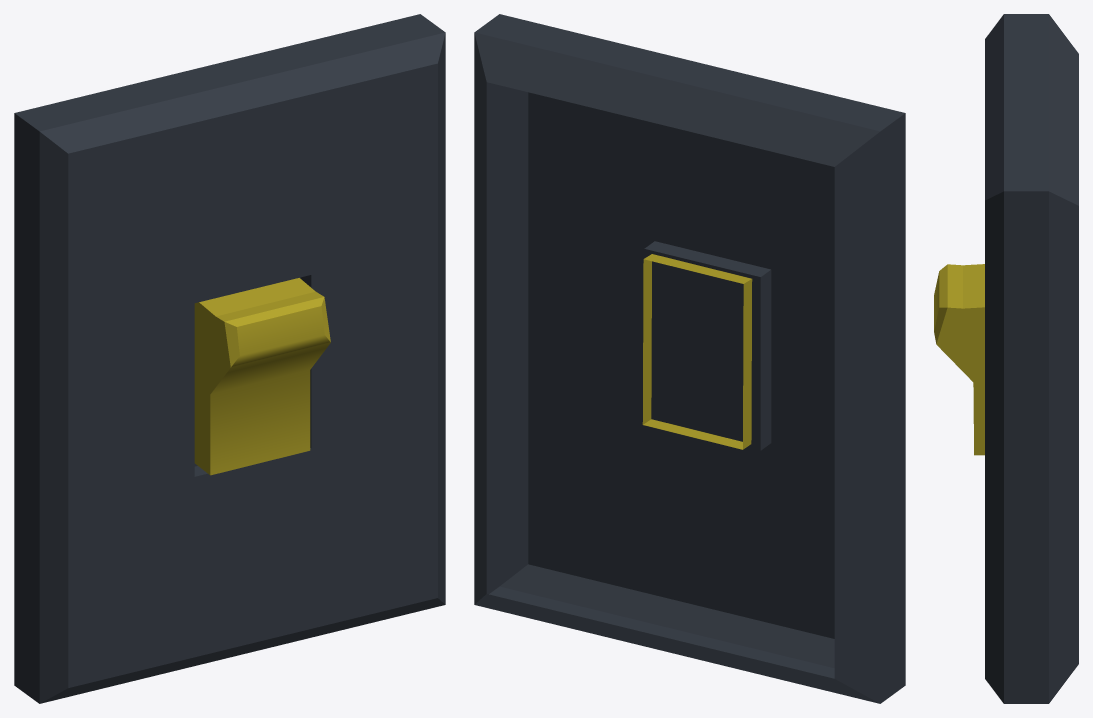
The model's file is SM_ButtonLightOn.fbx.
The picture shows the model from 3 angles, left to right: view 1: azimuth 30°, elevation 25°; view 2: azimuth 150°, elevation 25°; view 3: azimuth 270°, elevation 25°; orthographic projection. The views are drawn at different scales.
Parts seen in each view (by area): view 1: SM_ButtonLightON; view 2: SM_ButtonLightON; view 3: SM_ButtonLightON.
Part boxes in pixels (x1,y1,x2,y2): SM_ButtonLightON: (14,14,445,703); SM_ButtonLightON: (474,14,905,703); SM_ButtonLightON: (934,14,1078,703).
Size of the model in its own units: 19.86 by 26.75 by 6.86.
